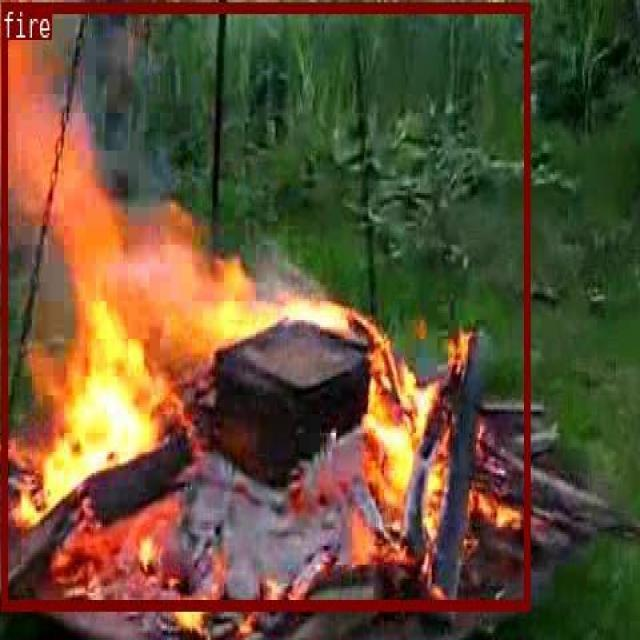fire: (1, 1, 529, 609)
